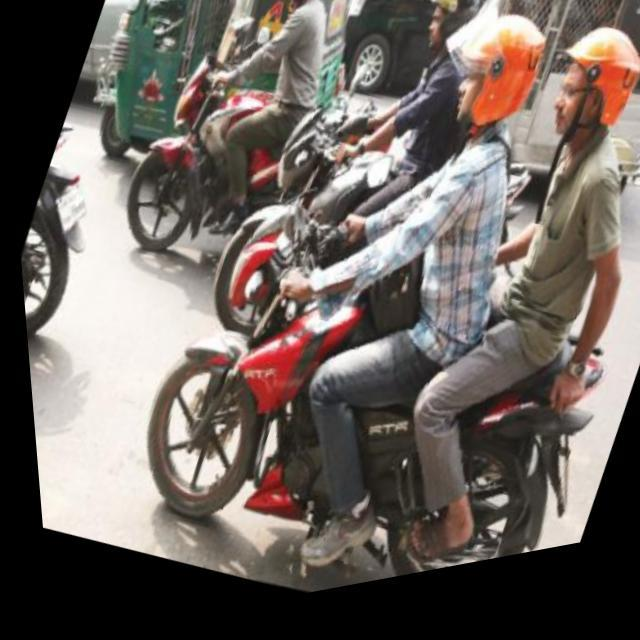Helmet: (436, 6, 548, 138), (546, 16, 640, 156)
